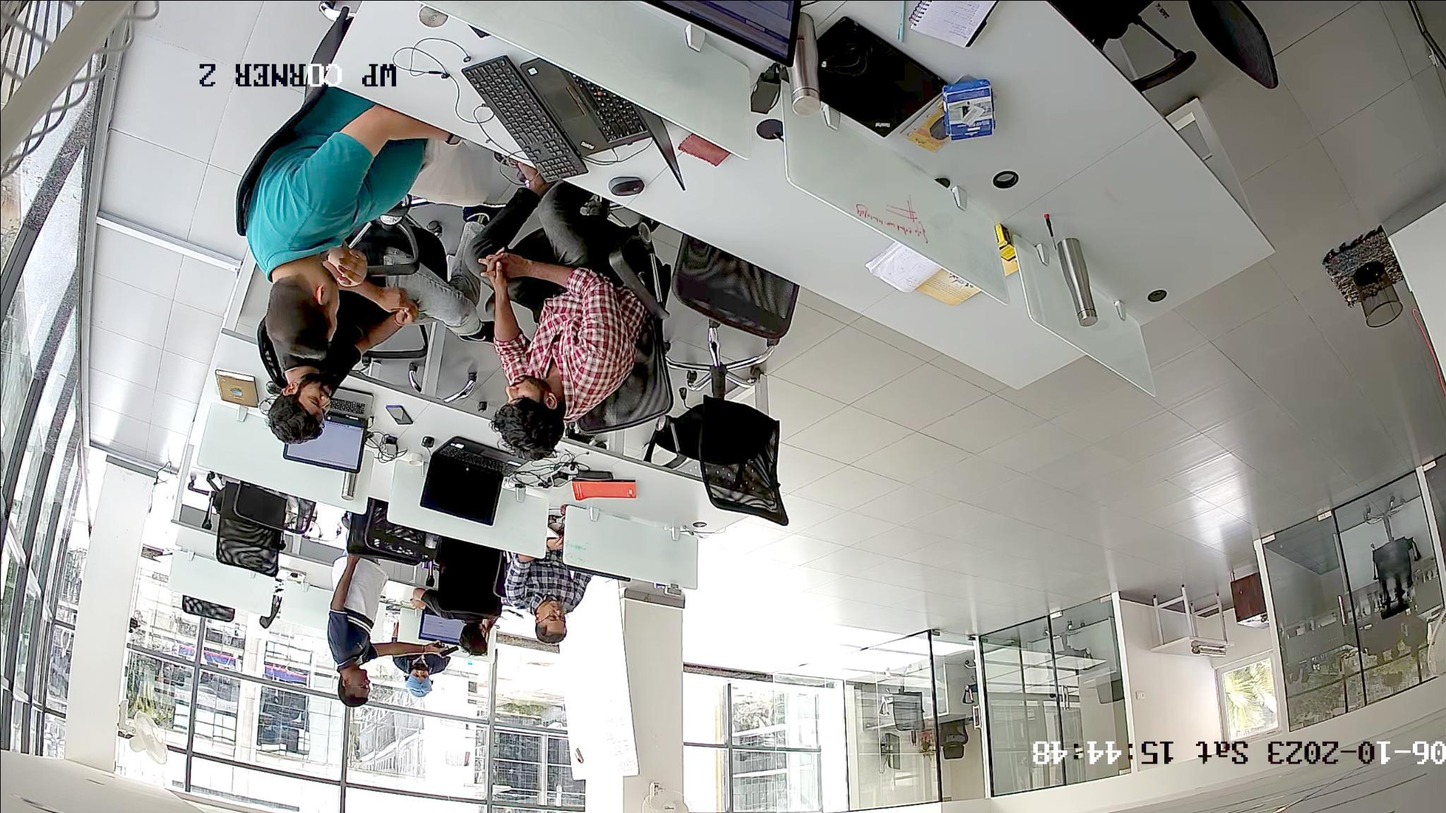gun: (433, 642, 458, 657)
